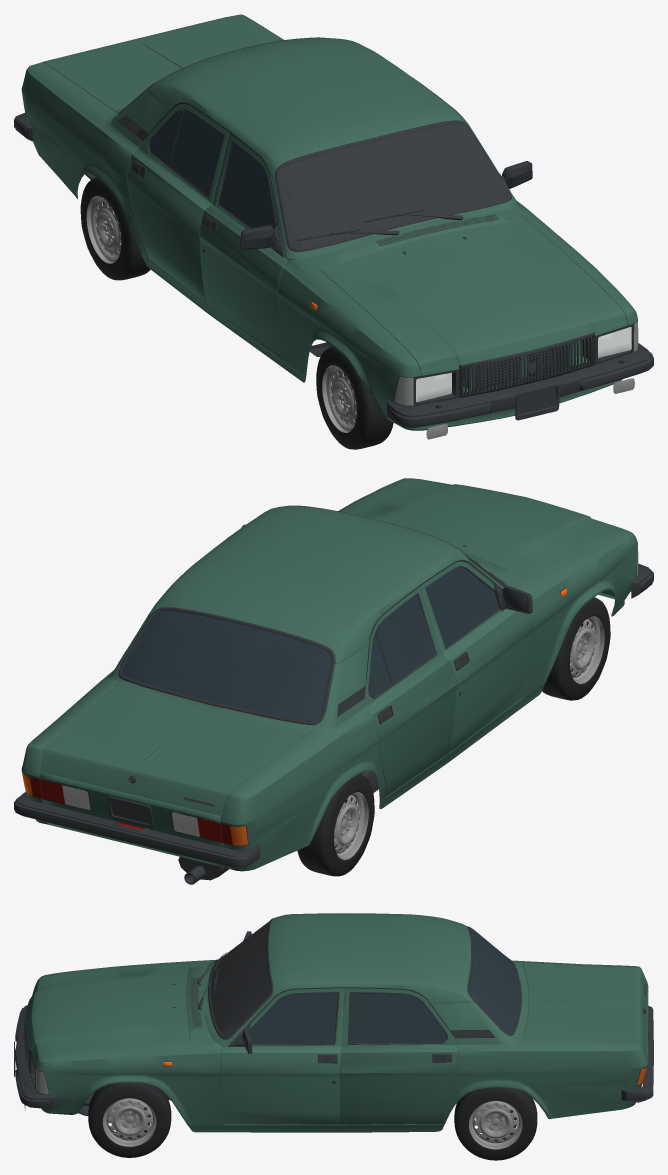
The model's file is gaz3102.glb.
The picture shows the model from 3 angles, top to bottom: view 1: azimuth 30°, elevation 25°; view 2: azimuth 150°, elevation 25°; view 3: azimuth 270°, elevation 25°; orthographic projection. The views are drawn at different scales.
Parts seen in each view (by area): view 1: chassisbody, chassis_trim, glass, wheel_fr, wheel_rr, headlights, interior, front_auxiliary; view 2: chassisbody, glass, chassis_trim, wheel_rr, wheel_fr, reverse_lights, brake_lights; view 3: chassisbody, chassis_trim, glass, wheel_fl, wheel_rl.
Boxes of the visible parts, x1,y1,x2,y2 form: chassisbody: [21, 14, 638, 430]; chassis_trim: [14, 37, 653, 427]; glass: [149, 110, 275, 228]; wheel_fr: [316, 346, 393, 449]; wheel_rr: [80, 177, 150, 280]; headlights: [416, 327, 631, 402]; interior: [137, 109, 563, 389]; front_auxiliary: [394, 321, 638, 439]; chassisbody: [21, 478, 637, 871]; glass: [121, 568, 499, 721]; chassis_trim: [14, 505, 653, 884]; wheel_rr: [297, 773, 374, 876]; wheel_fr: [542, 597, 610, 700]; reverse_lights: [62, 785, 199, 836]; brake_lights: [39, 779, 222, 842]; chassisbody: [26, 913, 648, 1132]; chassis_trim: [14, 918, 653, 1108]; glass: [250, 928, 519, 1044]; wheel_fl: [88, 1083, 171, 1157]; wheel_rl: [454, 1087, 537, 1160].
Size of the model in its own units: 2.14 by 1.57 by 5.22.
